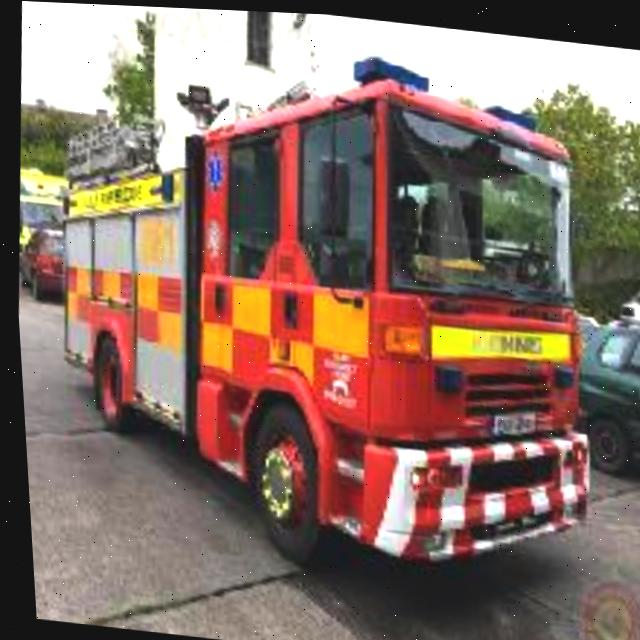emergency: (39, 19, 604, 587)
